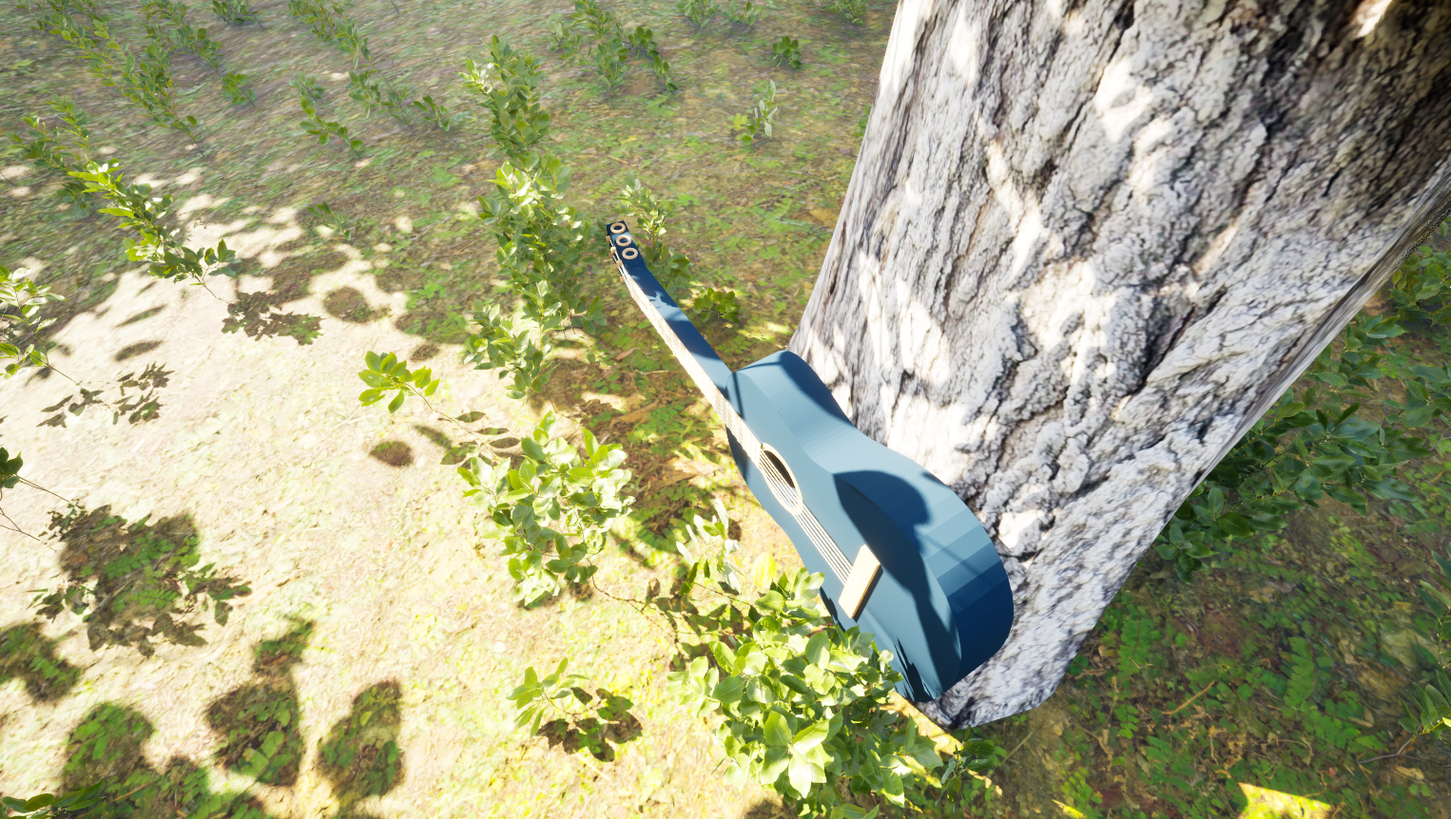Guitar: (575, 139, 1059, 727)
